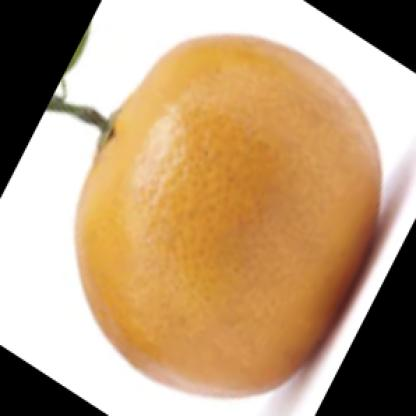fresh: (75, 32, 385, 398)
